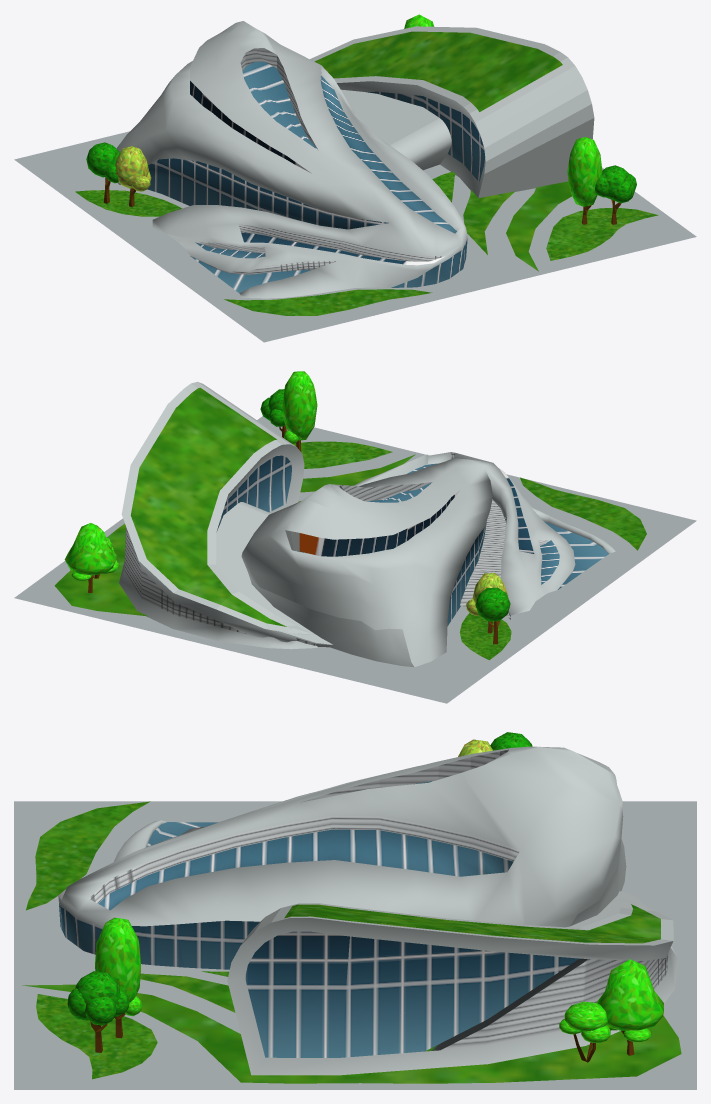
File: fashion_LV2.fbx
3 views of the same model, one above another, from view 1: azimuth 30°, elevation 25°; view 2: azimuth 150°, elevation 25°; view 3: azimuth 270°, elevation 25° (orthographic). The views are drawn at different scales.
Parts seen in each view (by area): view 1: fashion level 2; view 2: fashion level 2; view 3: fashion level 2.
Boxes of the visible parts, box(x1,y1,x2,y2) form: fashion level 2: box(14, 14, 696, 342); fashion level 2: box(14, 371, 696, 703); fashion level 2: box(14, 732, 696, 1089).
Bounding box in the file's own units: 120 × 35.47 × 120.
